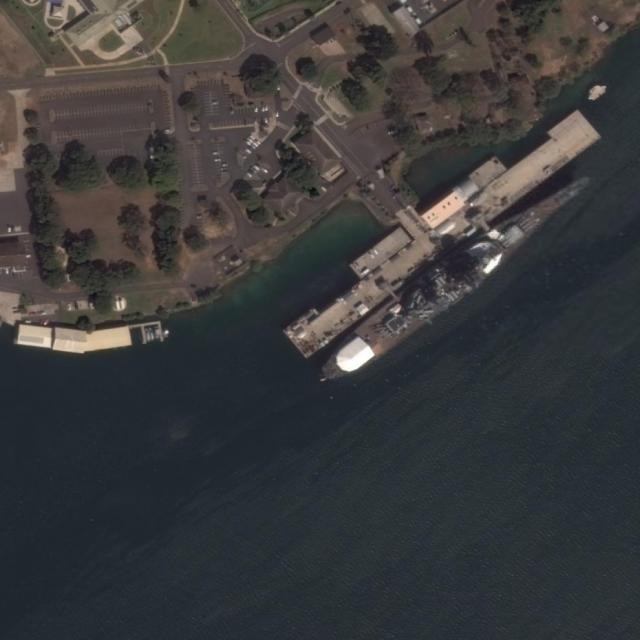Dock: (284, 107, 601, 361)
Other Warship: (316, 162, 597, 392)
